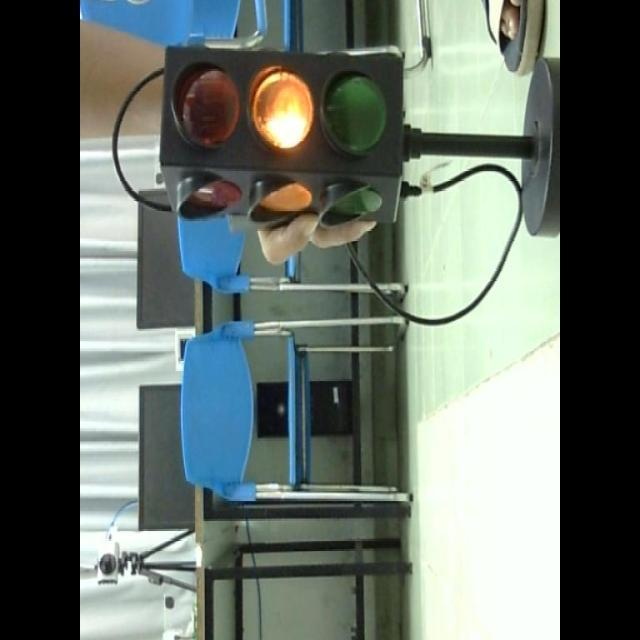yellow_light: (158, 46, 400, 177)
